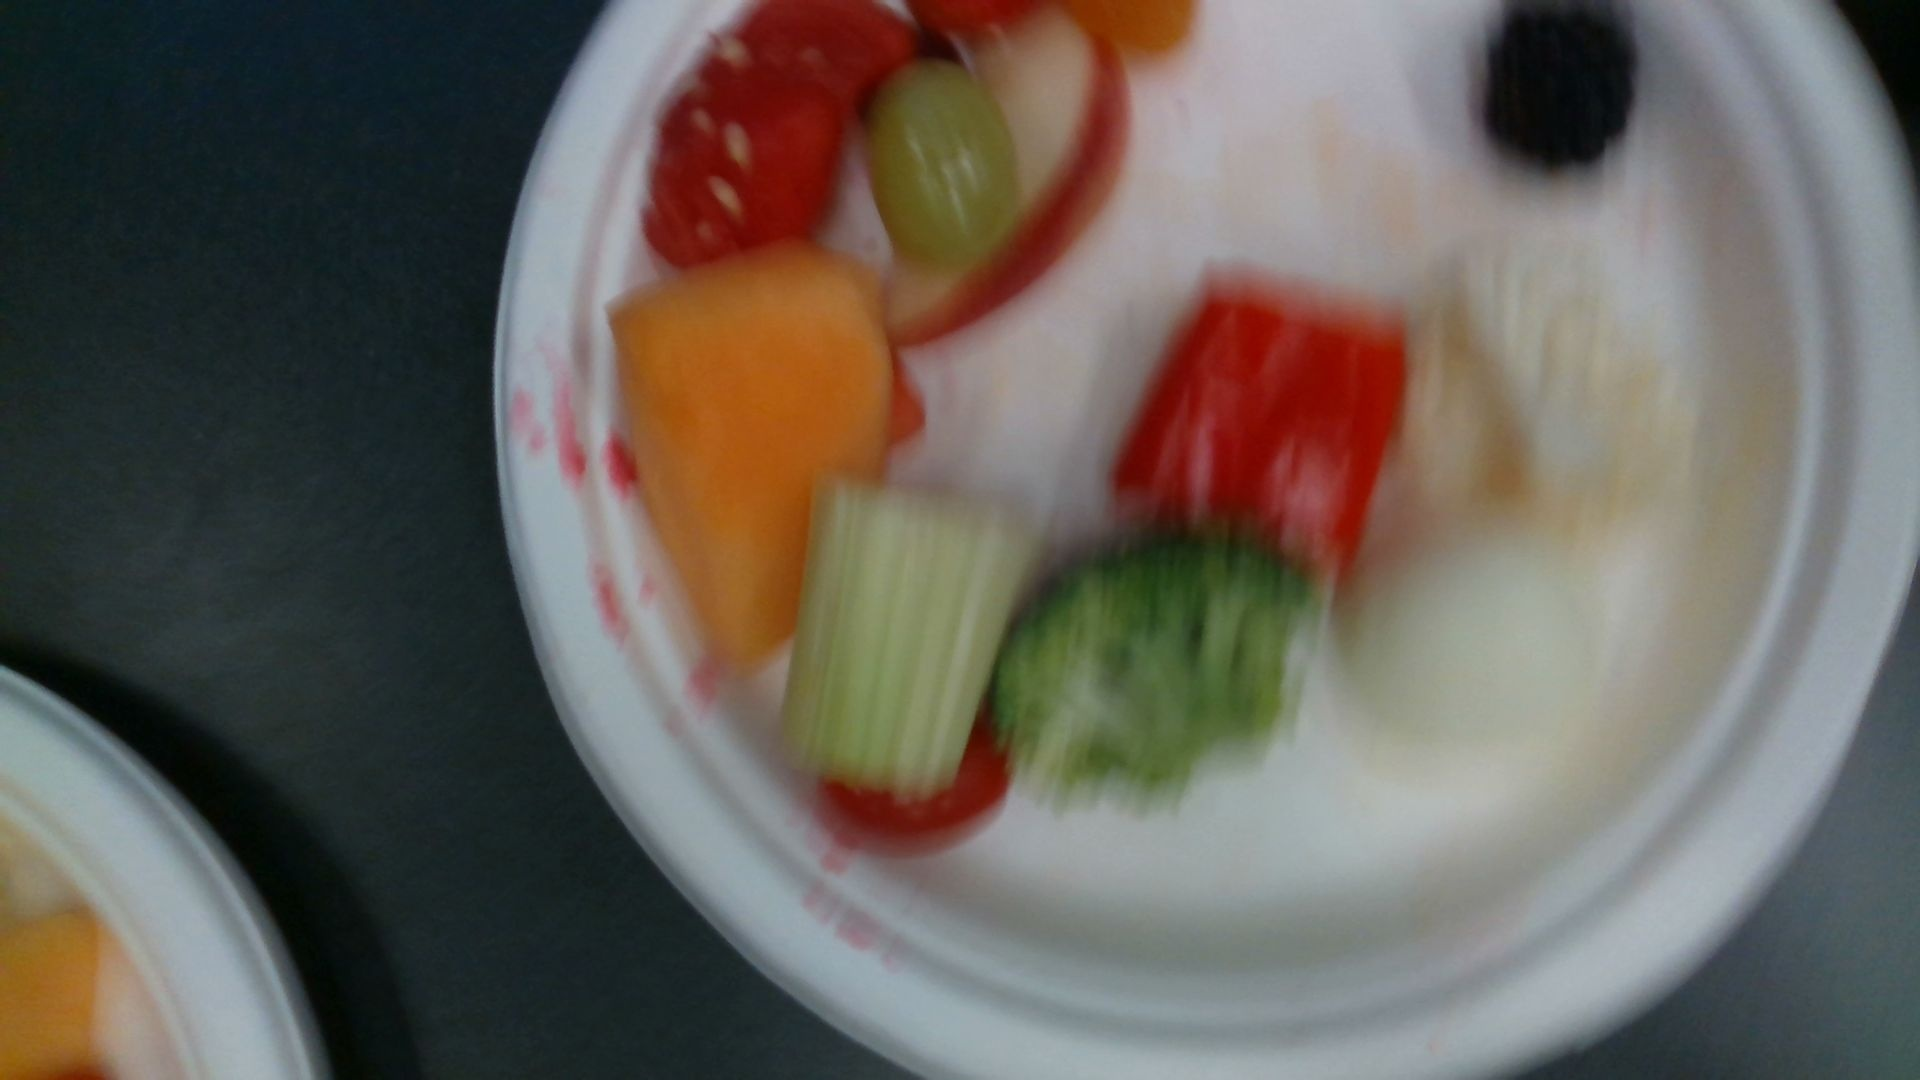apple: (885, 5, 1130, 342)
bell_pepper: (1114, 291, 1412, 600)
blackberry: (1482, 1, 1634, 171)
broccoli: (1000, 538, 1300, 789)
cantalope: (607, 236, 887, 669)
celery: (782, 476, 1027, 789)
cherry_tomato: (814, 727, 1009, 847)
grape_green: (865, 61, 1017, 258)
melon: (642, 73, 849, 273), (694, 1, 915, 125)
